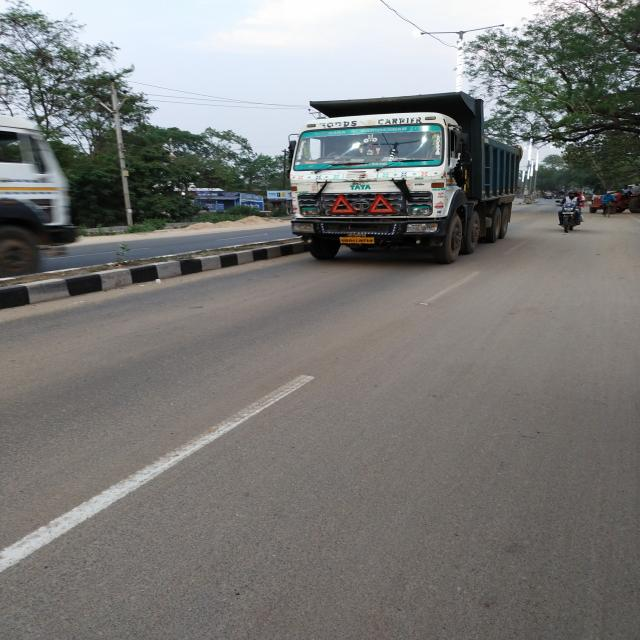Truck: (280, 92, 520, 256)
